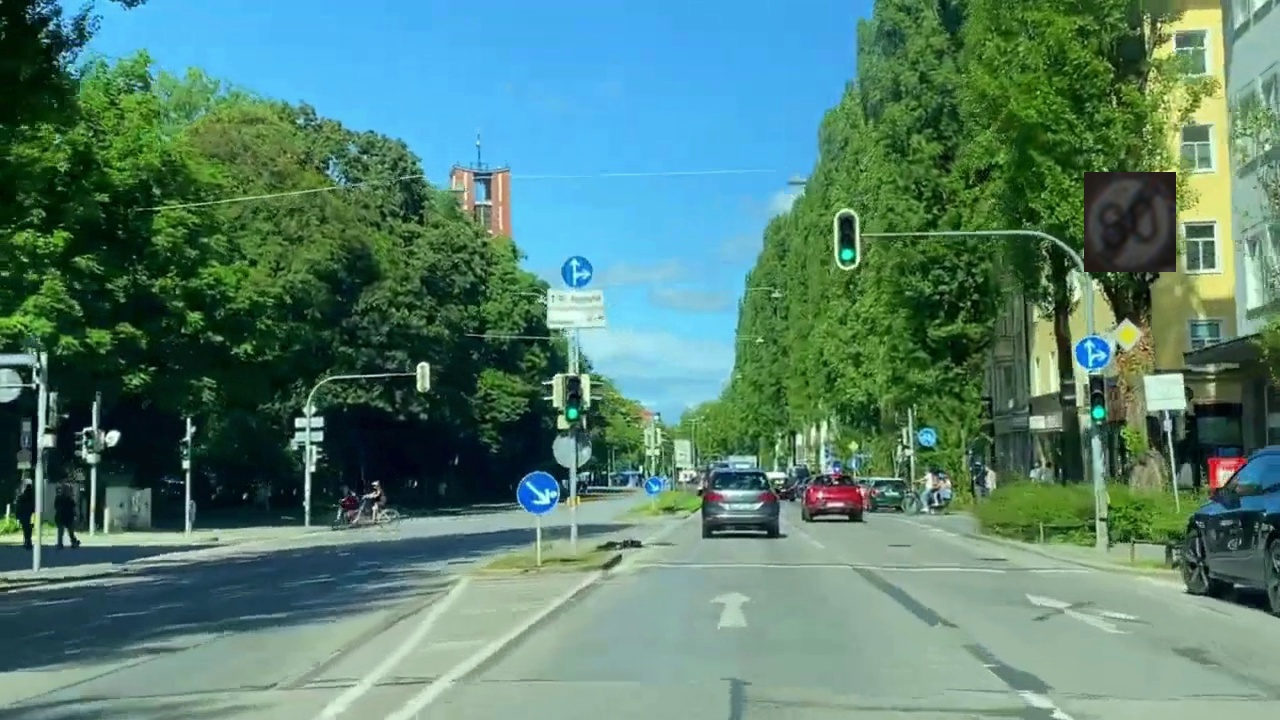End Speed 80: (1084, 172, 1176, 272)
